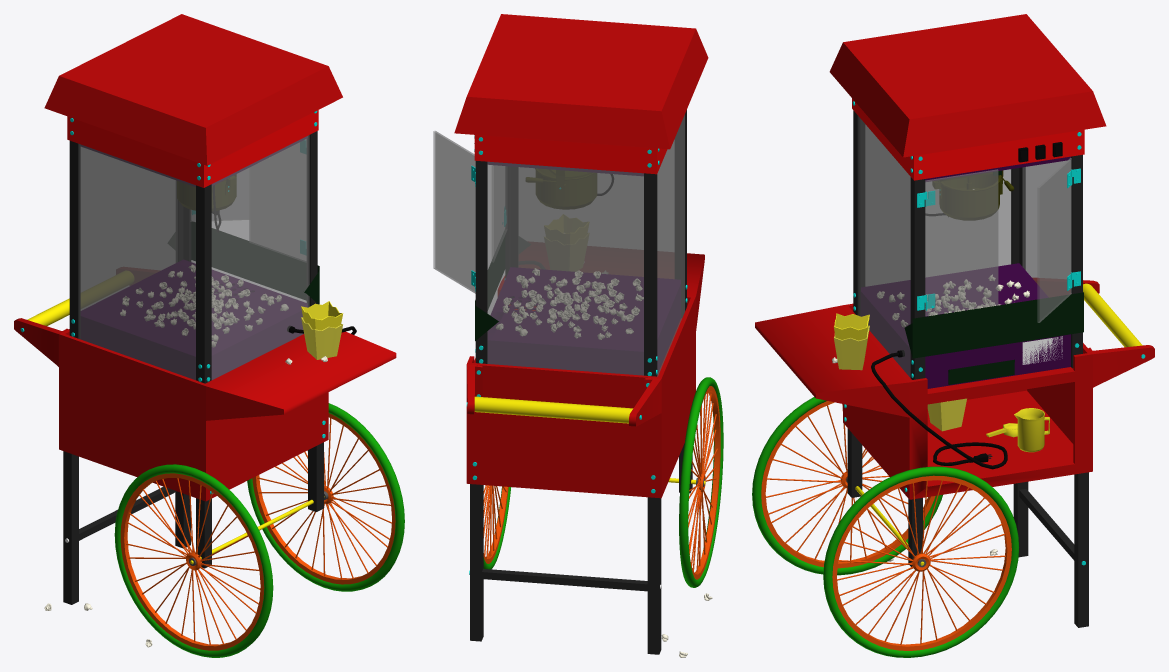
Rendered from Popcorn Machine.fbx.
3 renders of one model, left to right at view 1: azimuth 30°, elevation 25°; view 2: azimuth 150°, elevation 25°; view 3: azimuth 270°, elevation 25°, orthographic. The views are drawn at different scales.
Parts seen in each view (by area): view 1: Wagen_Bank, Glas, Details, Popkorn; view 2: Wagen_Bank, Glas, Details, Popkorn; view 3: Wagen_Bank, Details, Glas, Popkorn.
Boxes of the visible parts, left/top/right/bottom form: Wagen_Bank: left=14, top=14, right=396, bottom=604; Glas: left=78, top=135, right=309, bottom=380; Details: left=20, top=111, right=404, bottom=657; Popkorn: left=44, top=264, right=327, bottom=647; Wagen_Bank: left=454, top=14, right=708, bottom=654; Glas: left=433, top=114, right=684, bottom=376; Details: left=466, top=136, right=723, bottom=589; Popkorn: left=496, top=268, right=712, bottom=657; Wagen_Bank: left=755, top=14, right=1154, bottom=627; Details: left=752, top=101, right=1145, bottom=657; Glas: left=858, top=116, right=1071, bottom=377; Popkorn: left=832, top=189, right=1029, bottom=561.
Size of the model in its own units: 0.8224 by 1.55 by 1.06.
